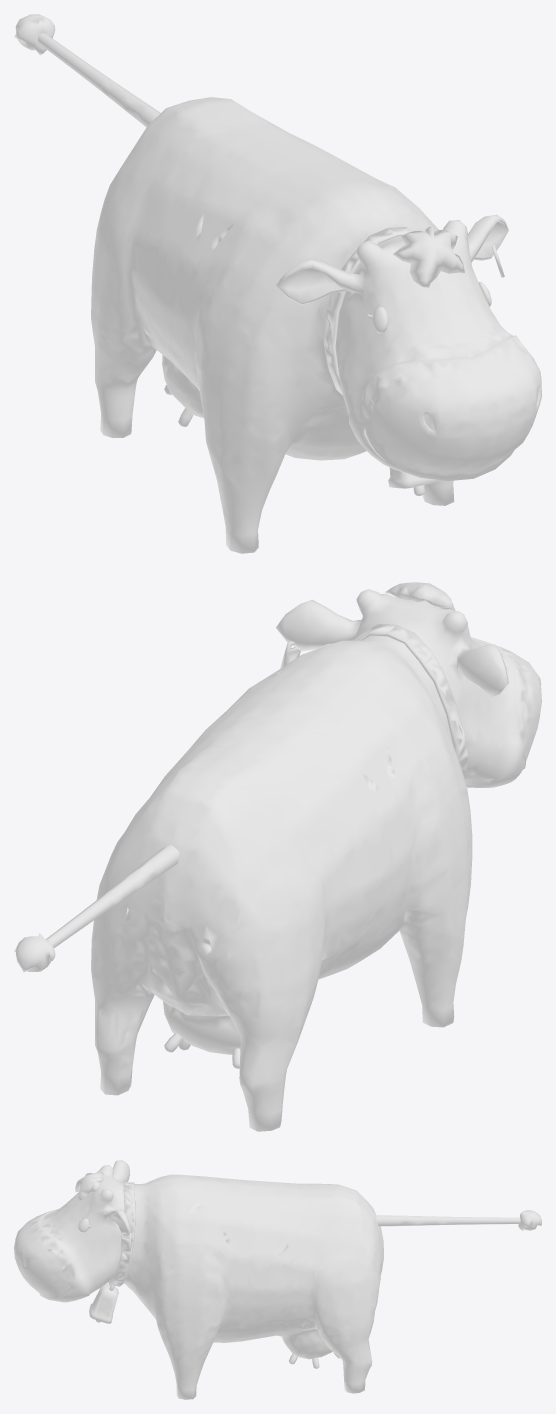
Rendered from white_cow_of_azure_lane.glb.
3 views of the same model, one above another, from view 1: azimuth 30°, elevation 25°; view 2: azimuth 150°, elevation 25°; view 3: azimuth 270°, elevation 25° (orthographic). The views are drawn at different scales.
Parts seen in each view (by area): view 1: cow_0; view 2: cow_0; view 3: cow_0.
Part boxes in pixels (x1=…): cow_0: x1=14, y1=14, x2=541, y2=553; cow_0: x1=14, y1=582, x2=541, y2=1131; cow_0: x1=14, y1=1160, x2=541, y2=1399.
Size of the model in its own units: 1.22 by 1.65 by 4.05.
Materials: 1 (1 with a texture image).
